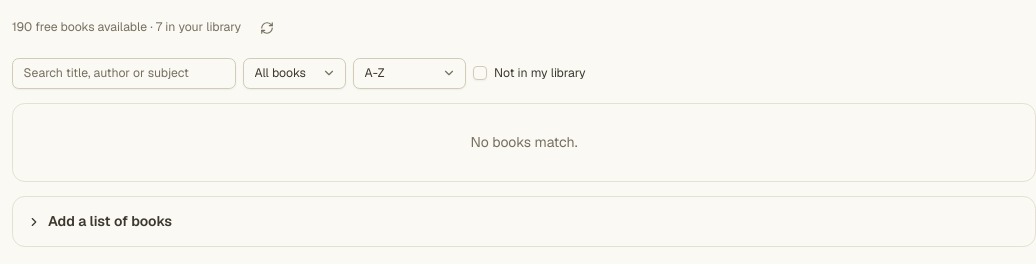
it: what is new › says nothing is new when the new filter has no books
Select "New (2)" in the dropdown named "Show" at (294, 73), box [243,58,346,89]
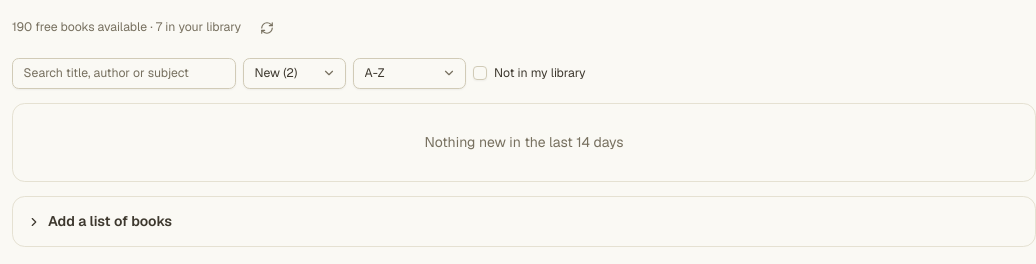
expect the text "Nothing new in the last 14 days" is shown: met, box [12,103,1035,182]
expect the text "No books match." is gone: met
